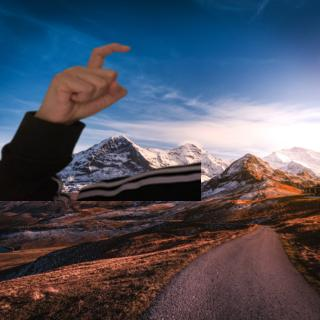WHY: (35, 35, 137, 121)
